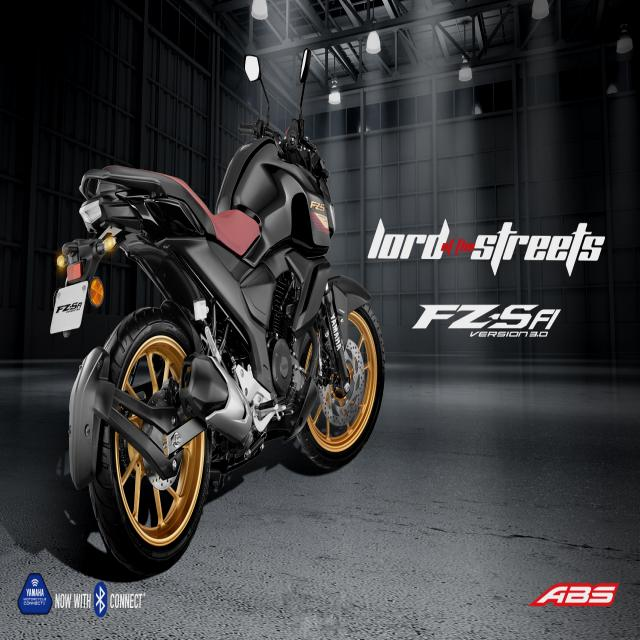MOTORCYCLE: (65, 101, 389, 574)
